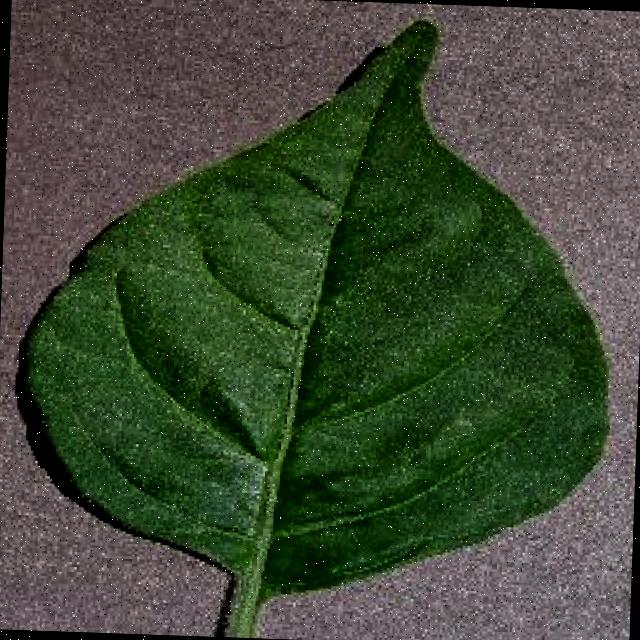Leaf: (51, 87, 586, 573)
